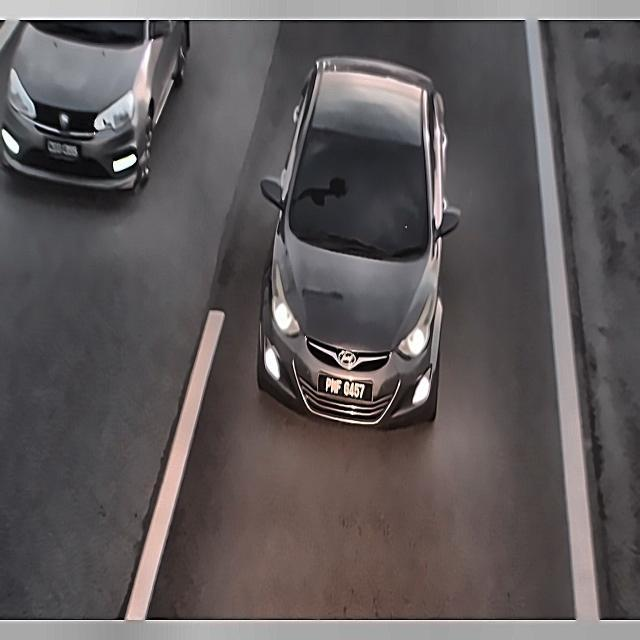car: (318, 365, 373, 413), (40, 126, 85, 174)
